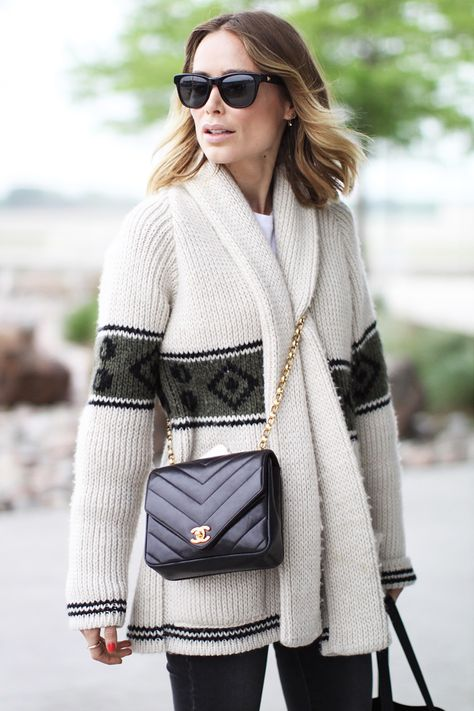channel: (136, 458, 289, 579), (178, 512, 223, 552)
